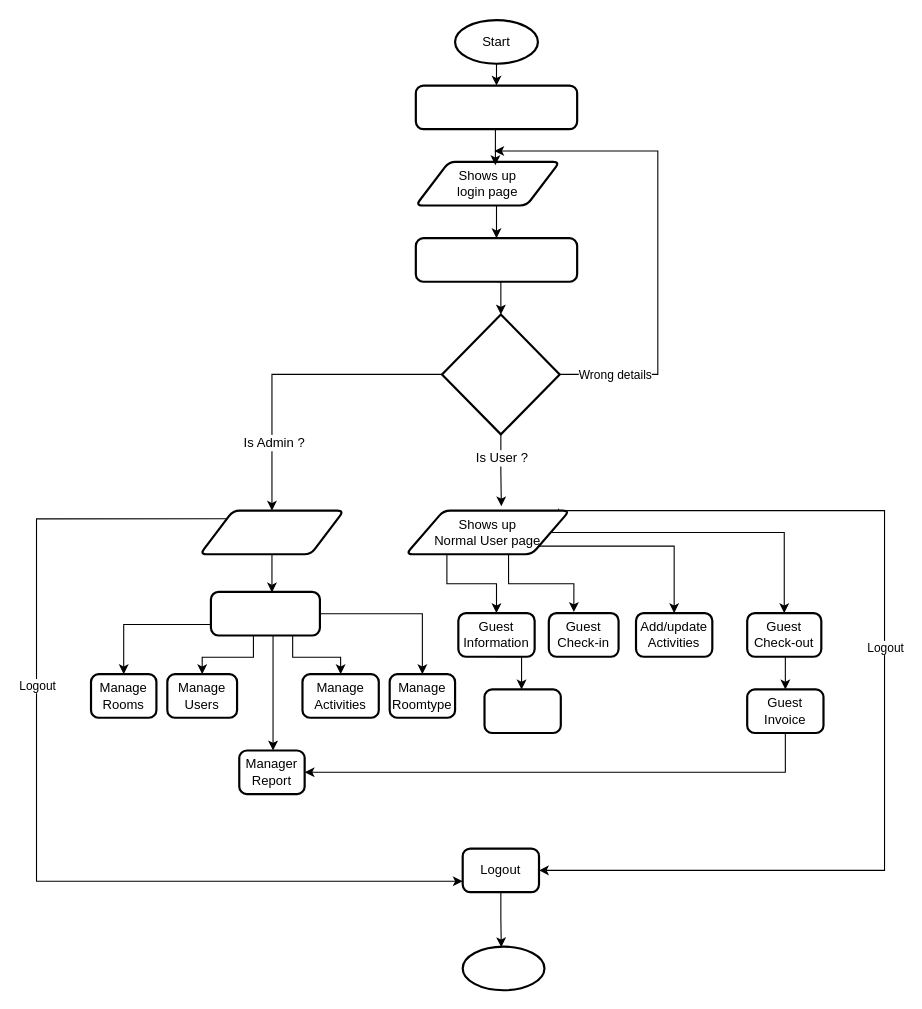
Image size: 922x1009. Some labels were removed from this diagram. The centre of each missing label's shape, as x and y in pixels:
"Check credentials ?" belongs at (500,374).
"Edit guest Information" belongs at (522,711).
"Login with credentials" belongs at (496,259).
"Manage" belongs at (264,613).
"Open hotel reservation system application" belongs at (496,107).
"Shows up Admin page" belongs at (271,532).
"Stop" belongs at (503,968).
